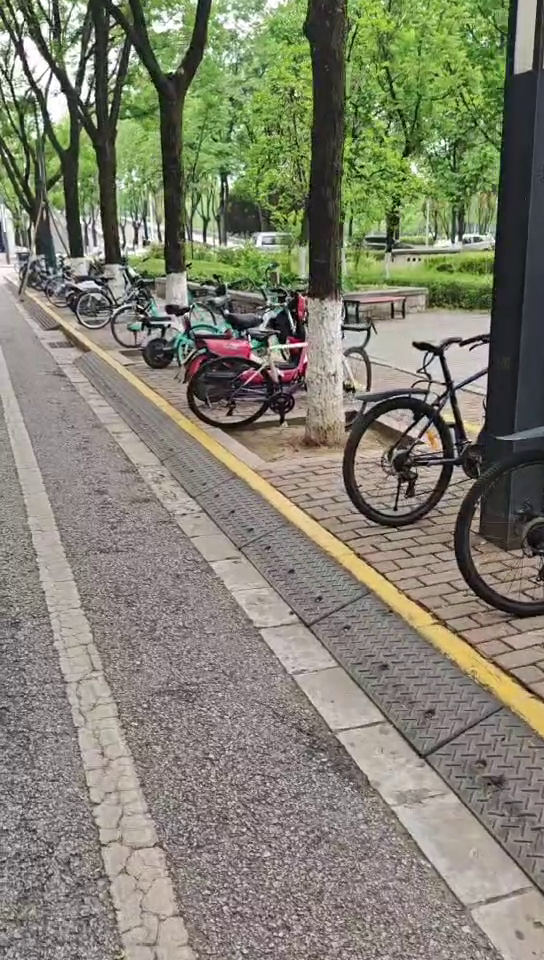others: (334, 330, 508, 513), (194, 306, 390, 432)
shared_bike_qingcong: (175, 291, 291, 366), (114, 273, 206, 365)
